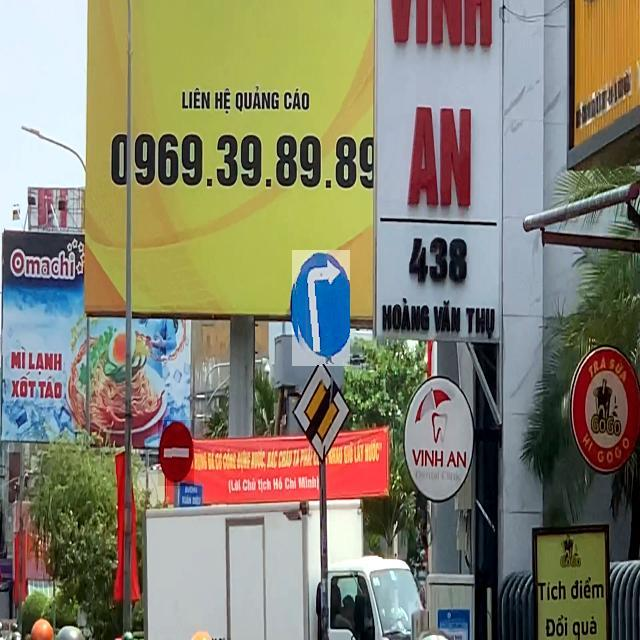P-102: (158, 421, 194, 487)
R-301d: (292, 250, 350, 366)
